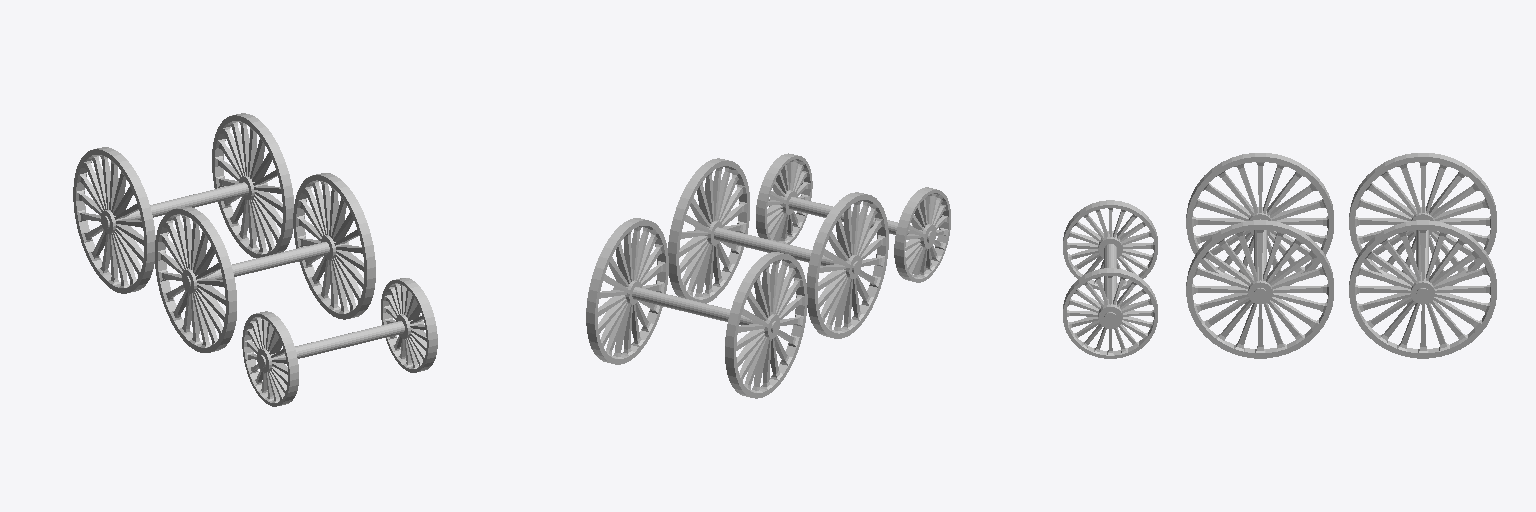
File: trainWheels.obj
3 renders of one model, left to right at view 1: azimuth 30°, elevation 25°; view 2: azimuth 150°, elevation 25°; view 3: azimuth 270°, elevation 25°, orthographic.
Parts seen in each view (by area): view 1: Cab Boiler F_Bigwheel, B_Bigwheel Cab Boiler, Cab Boiler F_Smallwheel; view 2: B_Bigwheel Cab Boiler, Cab Boiler F_Bigwheel, Cab Boiler F_Smallwheel; view 3: B_Bigwheel Cab Boiler, Cab Boiler F_Bigwheel, Cab Boiler F_Smallwheel.
Boxes of the visible parts, x1,y1,x2,y2 form: Cab Boiler F_Bigwheel: [155, 173, 375, 352]; B_Bigwheel Cab Boiler: [73, 113, 293, 293]; Cab Boiler F_Smallwheel: [242, 278, 437, 406]; B_Bigwheel Cab Boiler: [586, 218, 807, 398]; Cab Boiler F_Bigwheel: [668, 158, 888, 338]; Cab Boiler F_Smallwheel: [756, 153, 950, 282]; B_Bigwheel Cab Boiler: [1349, 153, 1496, 358]; Cab Boiler F_Bigwheel: [1186, 153, 1333, 358]; Cab Boiler F_Smallwheel: [1063, 200, 1157, 358].
Size of the model in its own units: 10.13 by 8.2 by 24.01.